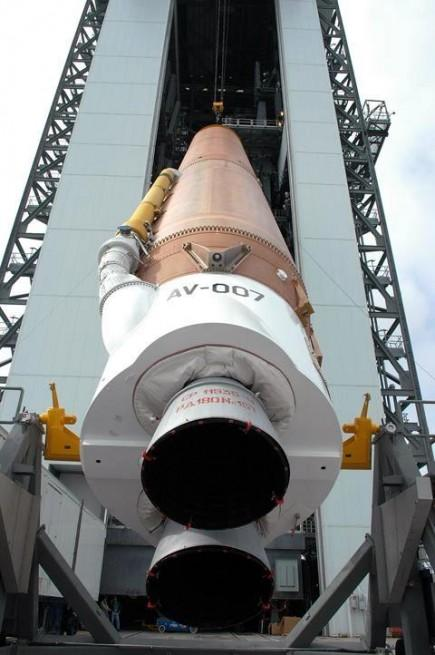body: (77, 124, 345, 553)
thruster: (135, 384, 293, 535), (143, 518, 277, 632)
